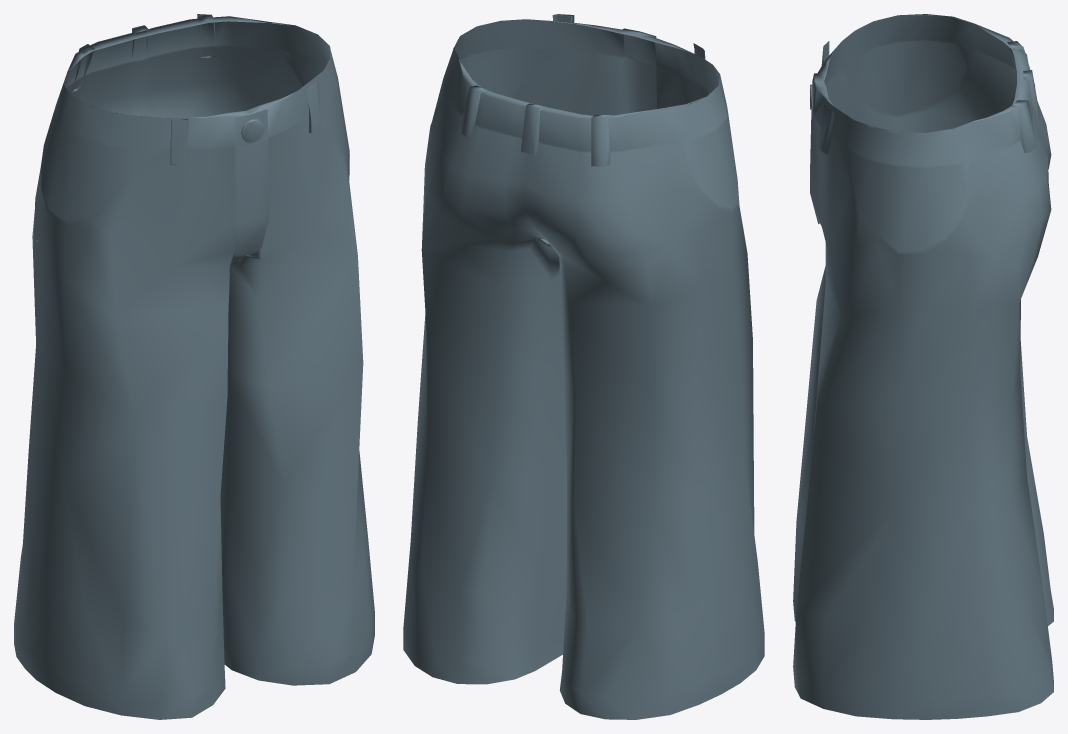
File: cropped-only.glb
The picture shows the model from 3 angles, left to right: view 1: azimuth 30°, elevation 25°; view 2: azimuth 150°, elevation 25°; view 3: azimuth 270°, elevation 25°; orthographic projection.
Visible parts, largest first — view 1: Lowerwear_cropped; view 2: Lowerwear_cropped; view 3: Lowerwear_cropped.
Part boxes in pixels (bbox=[...]): Lowerwear_cropped: bbox=[14, 14, 374, 719]; Lowerwear_cropped: bbox=[403, 14, 764, 719]; Lowerwear_cropped: bbox=[793, 14, 1053, 719].
Size of the model in its own units: 1.01 by 1.81 by 0.7365.
